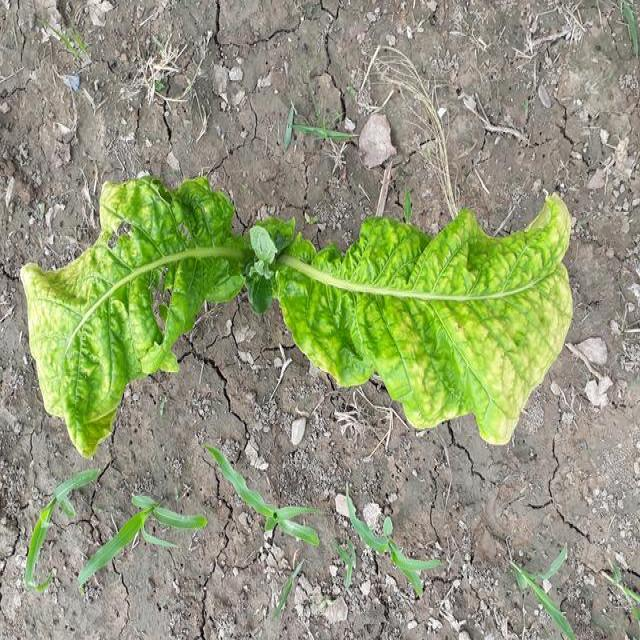crop: (24, 166, 570, 447)
